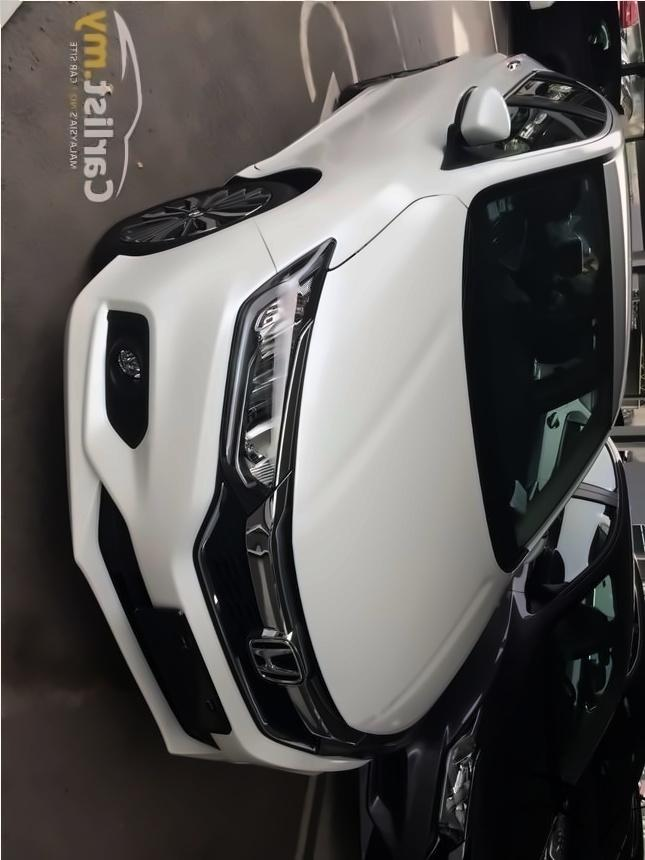Car hood: (289, 186, 519, 740)
Driver-s door - -F-R-: (280, 119, 622, 189)
Fender - -F-R-: (231, 154, 487, 280)
Front bumper: (62, 242, 261, 782)
Headlight - -R-: (217, 229, 349, 490)
Passenger-s door - -R-R-: (344, 47, 616, 120)
Side bumper - -R-: (227, 77, 391, 188)
Side mirror - -R-: (456, 77, 519, 155)
